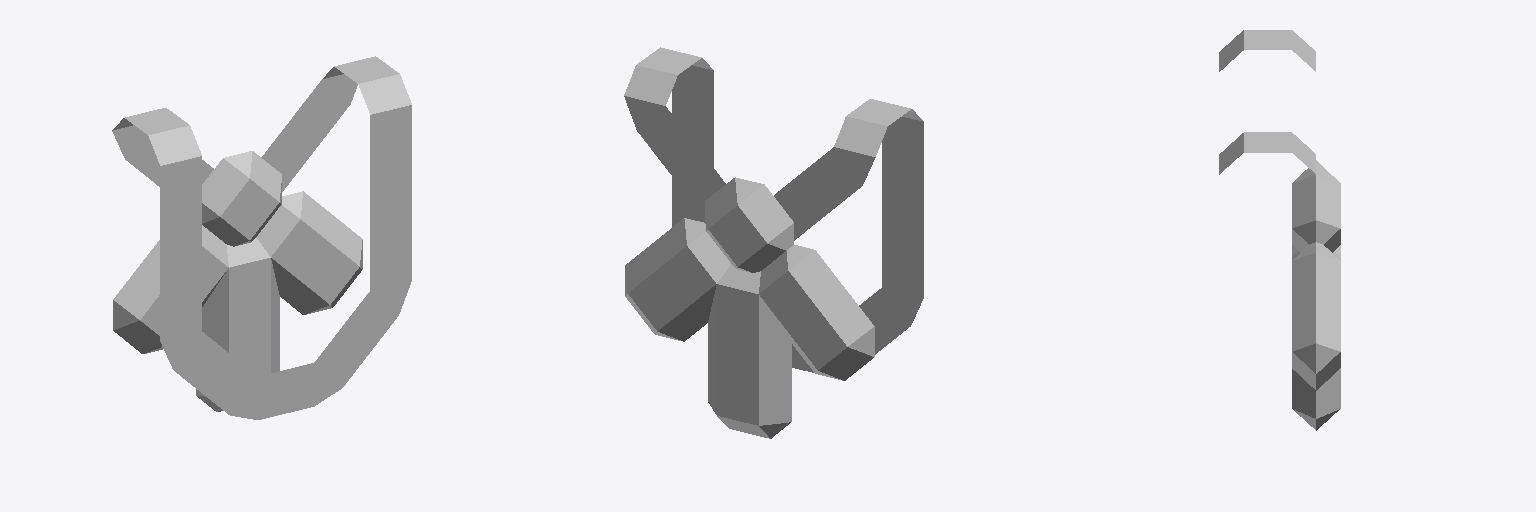
Rendered from amulet_prismatic.obj.
3 views of the same model, side by side, from view 1: azimuth 30°, elevation 25°; view 2: azimuth 150°, elevation 25°; view 3: azimuth 270°, elevation 25° (orthographic).
Parts seen in each view (by area): view 1: PENDANT_BASE_LEATHER_INVENTORY_Cube.067, PENDANT_DECO_PRISMATIC_INVENTORY_Cube.074; view 2: PENDANT_DECO_PRISMATIC_INVENTORY_Cube.074, PENDANT_BASE_LEATHER_INVENTORY_Cube.067; view 3: PENDANT_DECO_PRISMATIC_INVENTORY_Cube.074, PENDANT_BASE_LEATHER_INVENTORY_Cube.067.
Part boxes in pixels (left/top/right/bottom): PENDANT_BASE_LEATHER_INVENTORY_Cube.067: left=112, top=56, right=411, bottom=419; PENDANT_DECO_PRISMATIC_INVENTORY_Cube.074: left=113, top=151, right=362, bottom=411; PENDANT_DECO_PRISMATIC_INVENTORY_Cube.074: left=625, top=177, right=874, bottom=438; PENDANT_BASE_LEATHER_INVENTORY_Cube.067: left=624, top=47, right=923, bottom=372; PENDANT_DECO_PRISMATIC_INVENTORY_Cube.074: left=1292, top=160, right=1340, bottom=430; PENDANT_BASE_LEATHER_INVENTORY_Cube.067: left=1219, top=30, right=1315, bottom=174.
Bounding box in the file's own units: 0.3754 × 0.4689 × 0.1562.